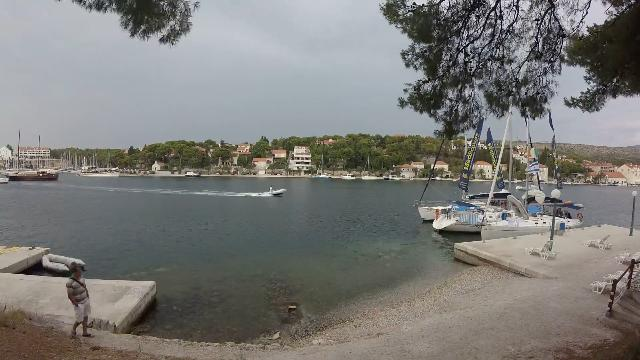Freighter: (0, 159, 66, 186)
speedboat: (258, 182, 290, 200)
